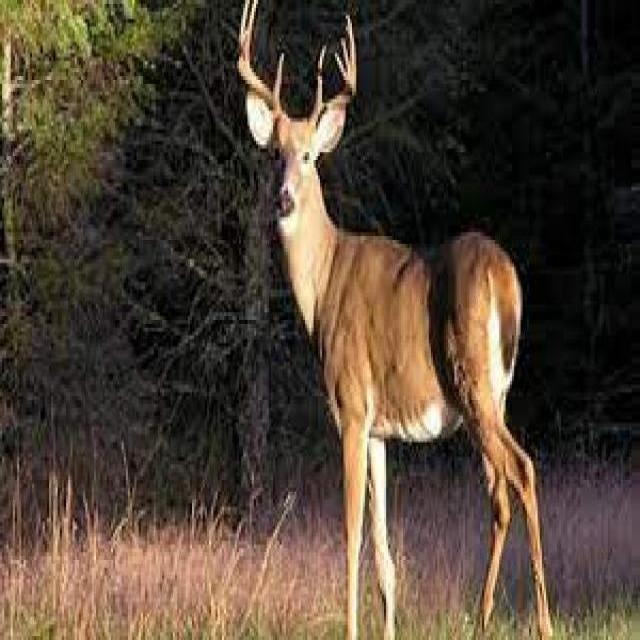deer: (236, 3, 558, 629)
